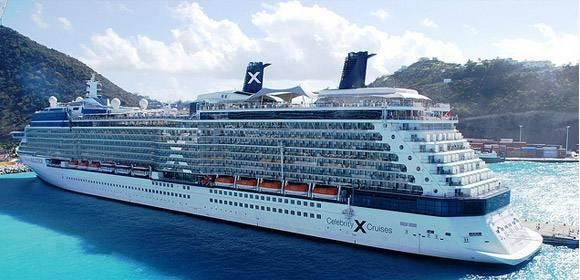youlun: (14, 50, 544, 265)
